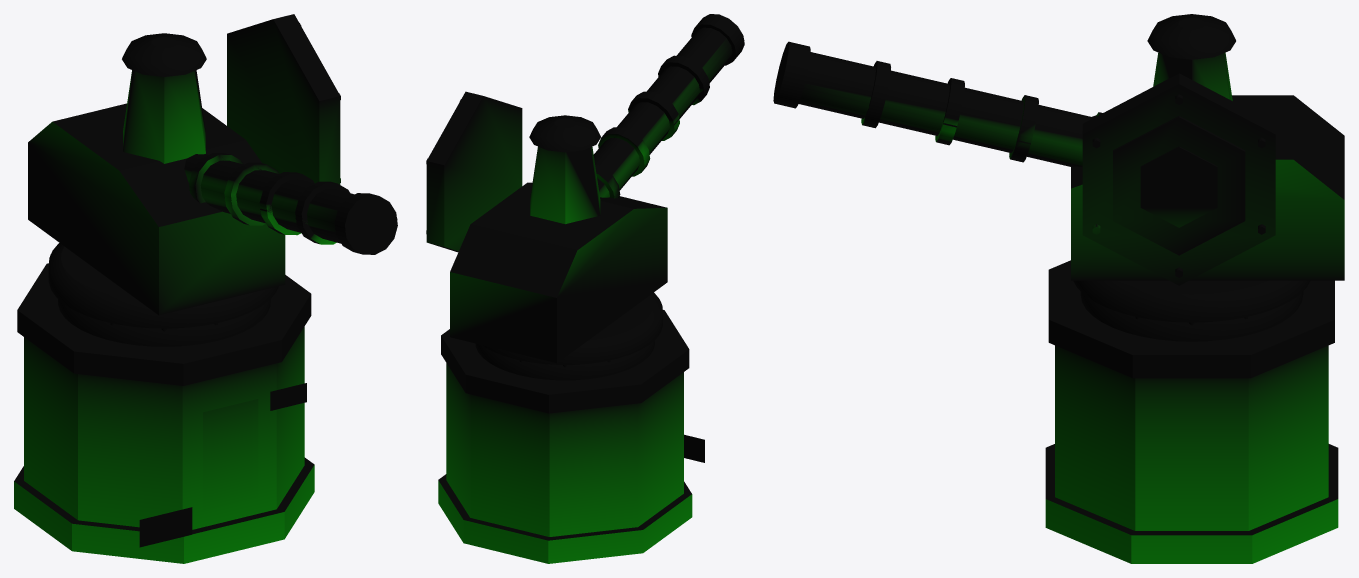
File: gaussturret.glb
3 renders of one model, left to right at view 1: azimuth 30°, elevation 25°; view 2: azimuth 150°, elevation 25°; view 3: azimuth 270°, elevation 25°, orthographic. The views are drawn at different scales.
Visible parts, largest first — view 1: lod0_Base, lod0_Turret, lod0_Gun, lod1_Turret, lod1_Gun; view 2: lod0_Base, lod0_Turret, lod0_Gun, lod1_Turret; view 3: lod0_Base, lod0_Turret, lod0_Gun, lod1_Turret, lod1_Gun.
Part boxes in pixels (x1,y1,x2,y2): lod0_Base: (14, 263, 314, 563); lod0_Turret: (28, 14, 340, 328); lod0_Gun: (184, 153, 397, 254); lod1_Turret: (50, 247, 278, 328); lod1_Gun: (189, 156, 397, 253); lod0_Base: (438, 310, 704, 563); lod0_Turret: (426, 91, 667, 364); lod0_Gun: (593, 14, 744, 198); lod1_Turret: (501, 296, 661, 364); lod0_Base: (1045, 260, 1338, 563); lod0_Turret: (1071, 14, 1344, 322); lod0_Gun: (773, 41, 1102, 166); lod1_Turret: (1086, 280, 1296, 319); lod1_Gun: (773, 48, 1082, 153).
Bounding box in the file's own units: 4.75 × 8.35 × 8.98.
